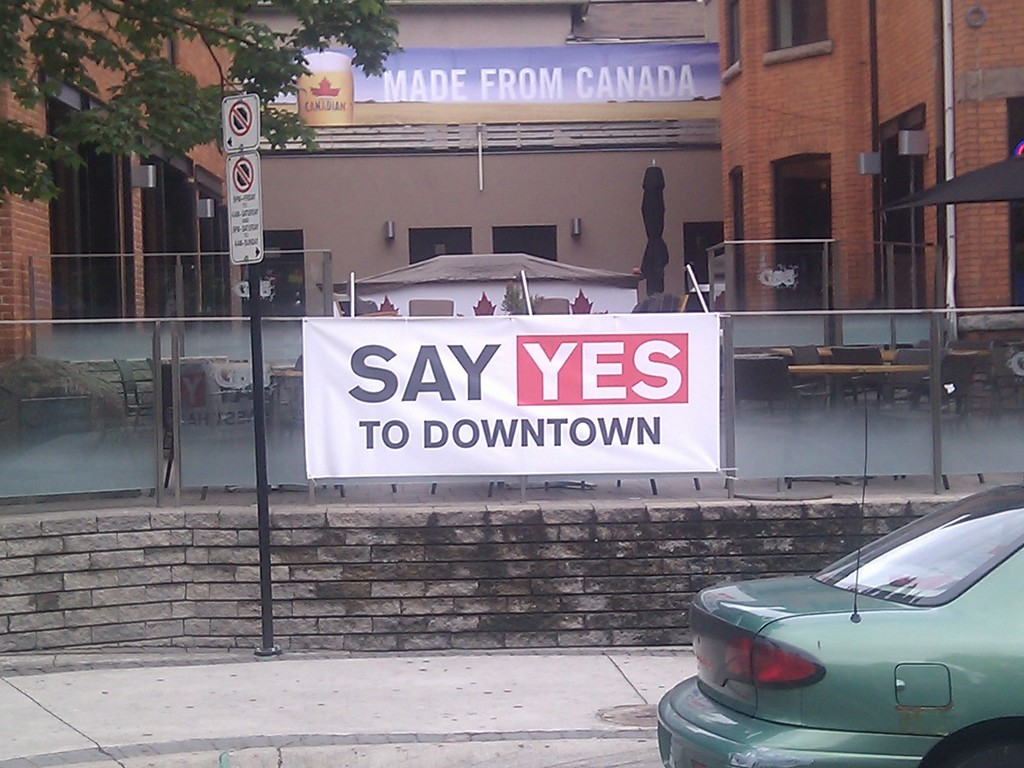Car: (655, 368, 1023, 767)
